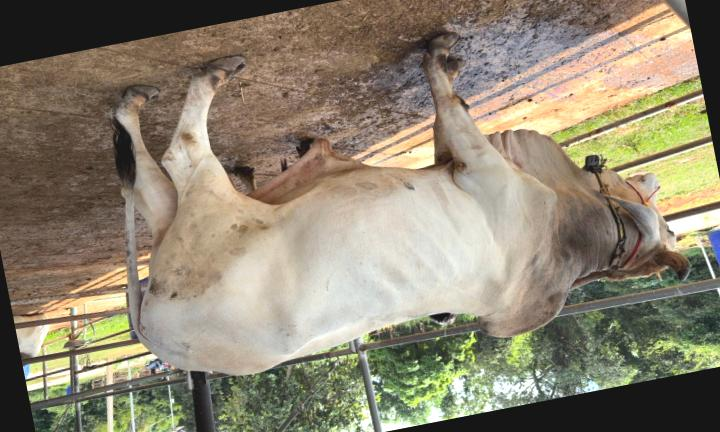Brahman: (112, 33, 689, 374)
